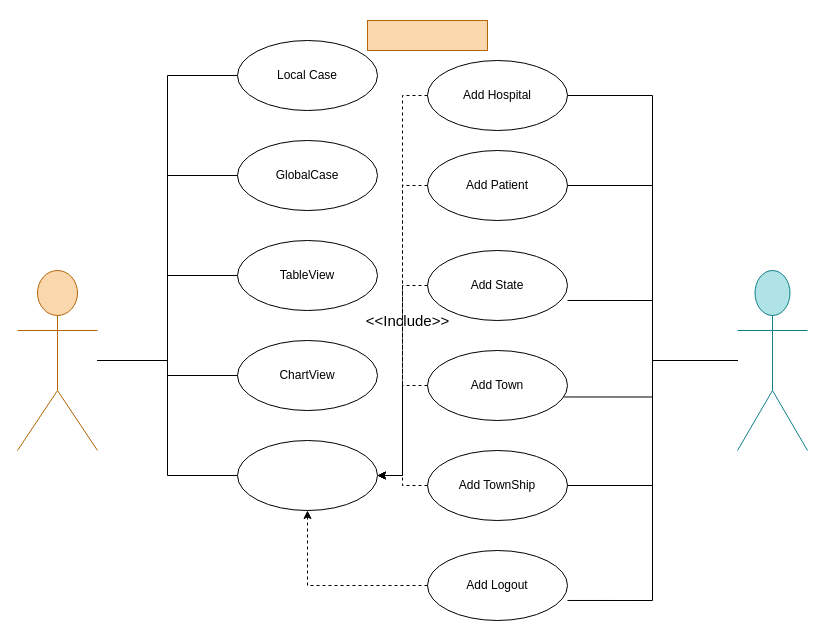
Image size: 825x638. Some labels were removed from this diagram. The shapes that lost their labels are listed below. From the top down, each one's centre as x and y in pixels, then its label:
(427,35): Covid-19 tracker app
(57,360): User
(772,360): Admin
(307,475): Login as Admin
